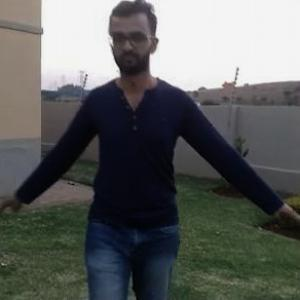land: (50, 78, 200, 299)
